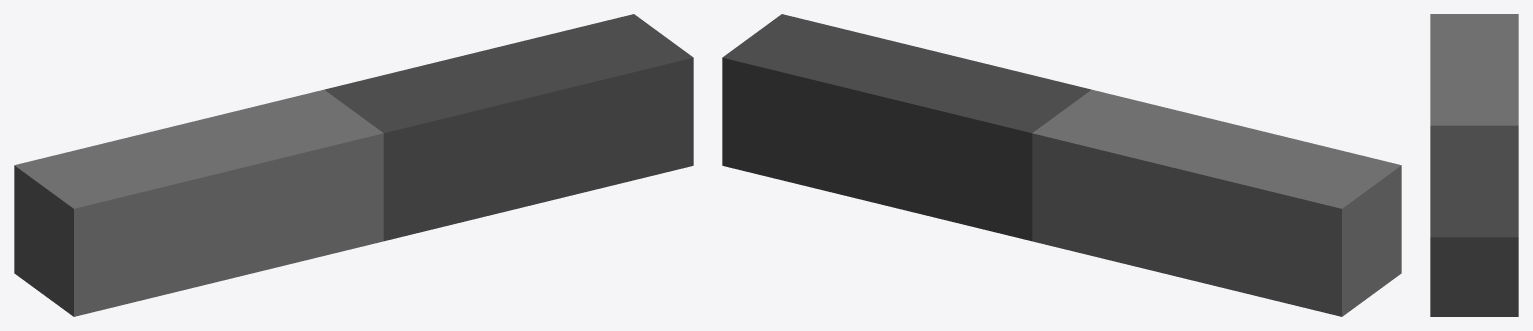
File: tavern-3-knife.obj
The picture shows the model from 3 angles, left to right: view 1: azimuth 30°, elevation 25°; view 2: azimuth 150°, elevation 25°; view 3: azimuth 270°, elevation 25°; orthographic projection. The views are drawn at different scales.
Visible parts, largest first — view 1: knife; view 2: knife; view 3: knife.
Part boxes in pixels (x1=…): knife: x1=14, y1=14, x2=693, y2=316; knife: x1=722, y1=14, x2=1401, y2=316; knife: x1=1430, y1=14, x2=1518, y2=316.
Bounding box in the file's own units: 0.6 × 0.1 × 0.1.
1 material, 1 textured.
